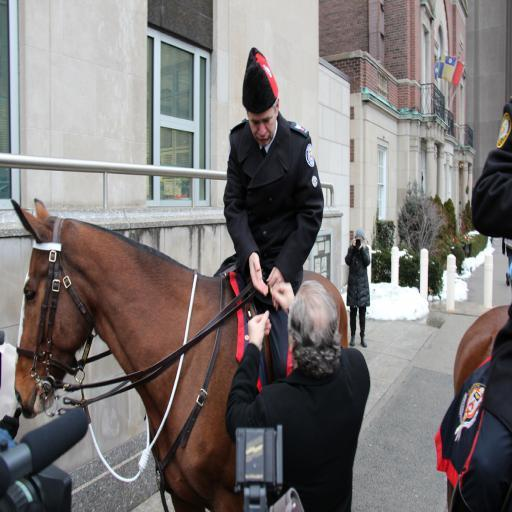horse: (10, 200, 347, 512), (449, 302, 512, 512), (452, 303, 512, 398)
